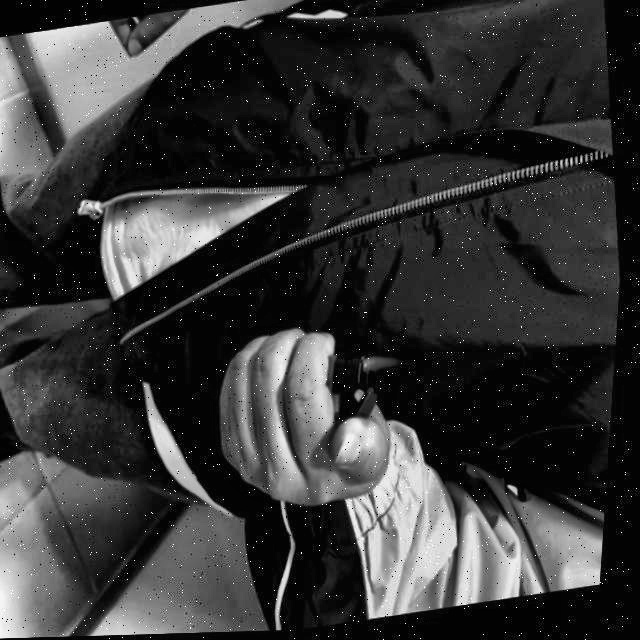Fire: (368, 353, 408, 372)
